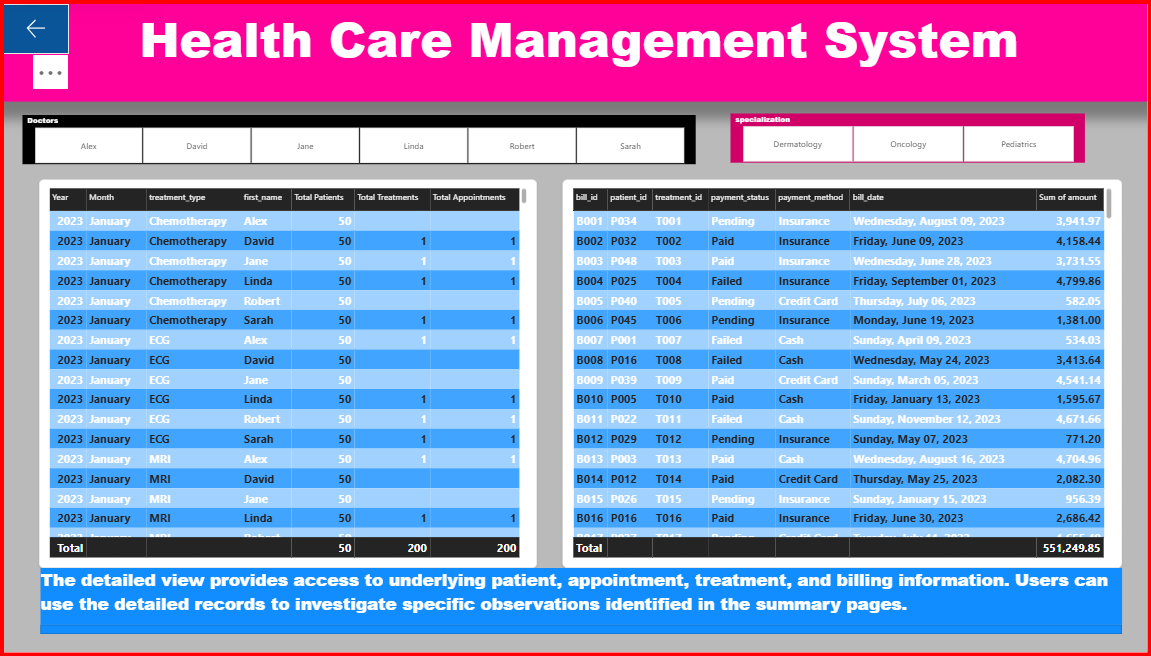

This screenshot's page, from the dashboard's own definition file:
{"tool":"powerbi","page":{"name":"Details","canvas":[1920,1080],"ordinal":6},"visuals":[{"type":"textbox","title":" Health Care Management System","box":[0,0,1920,162.5],"z":0},{"type":"actionButton","box":[0,0,110,82.5],"z":1000},{"type":"tableEx","fields":{"Values":["cleaned_treatments.treatment_date.Variation.Date Hierarchy.Year","cleaned_treatments.treatment_date.Variation.Date Hierarchy.Month","cleaned_treatments.treatment_type","cleaned_doctors.first_name","Descriptive Analys.Total Patients","Descriptive Analys.Total Treatments","Descriptive Analys.Total Appointments"]},"box":[60,292.5,830,647.5],"z":2000},{"type":"tableEx","fields":{"Values":["cleaned_billing.bill_id","cleaned_billing.patient_id","cleaned_billing.treatment_id","cleaned_billing.payment_status","cleaned_billing.payment_method","cleaned_billing.bill_date","Sum(cleaned_billing.amount)"]},"box":[932.5,292.5,932.5,647.5],"z":3000},{"type":"slicer","fields":{"Values":["cleaned_doctors.first_name"]},"box":[32.5,185,1121.7,81.7],"z":4000},{"type":"slicer","fields":{"Values":["cleaned_doctors.specialization"]},"box":[1212.5,182.5,590.9,81.7],"z":5000},{"type":"shape","title":"The detailed view provides access to underlying patient, appointment, treatment, and billing information. Users can use the detailed records to investigate specific observations identified in the summ","box":[62.5,940,1802.5,110],"z":6000}]}

Visuals, with their boxes in screenshot pixels (x1, y1, x2, y2), scaled from the page's 1920x1080 canvas onto the 1151x656 screenshot:
" Health Care Management System" textbox: box=[0, 0, 1150, 99]
actionButton: box=[0, 0, 66, 50]
tableEx - cleaned_treatments.treatment_date.Variation.Date Hierarchy.Year x cleaned_treatments.treatment_date.Variation.Date Hierarchy.Month: box=[36, 178, 534, 571]
tableEx - cleaned_billing.bill_id x cleaned_billing.patient_id: box=[559, 178, 1118, 571]
slicer - cleaned_doctors.first_name: box=[19, 112, 692, 162]
slicer - cleaned_doctors.specialization: box=[727, 111, 1081, 160]
"The detailed view provides access to underlying patient, appointment, treatment, and billing information. Users can use the detailed records to investigate specific observations identified in the summ" shape: box=[37, 571, 1118, 638]
